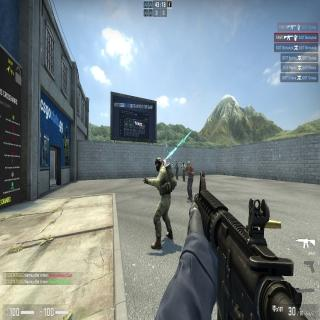CT-Body: (153, 155, 171, 251), (176, 162, 178, 180)
CT-Head: (155, 158, 162, 171), (176, 162, 177, 165)
T-Body: (187, 161, 192, 200), (183, 163, 185, 182)
T-Head: (187, 161, 190, 168), (183, 162, 184, 165)
